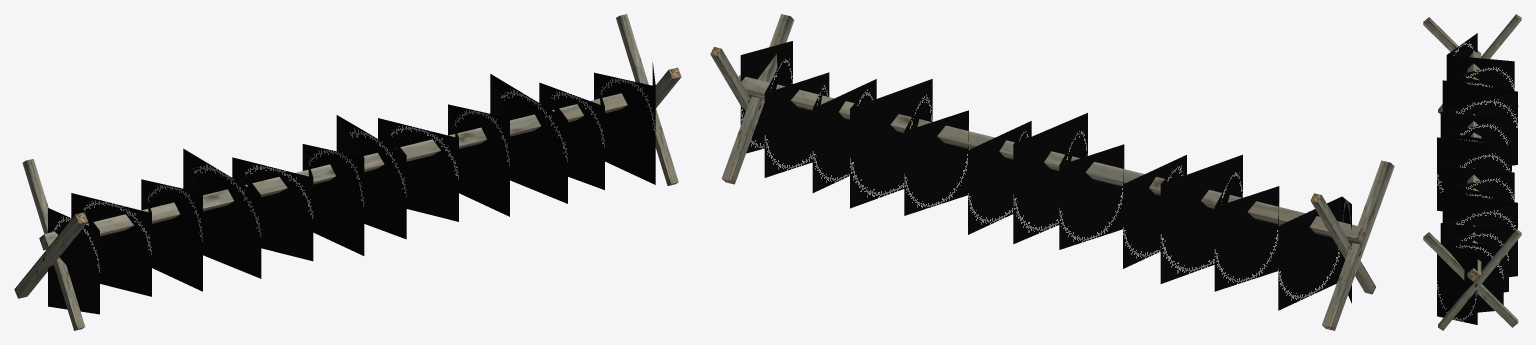
File: Checkpoint_Barrier8M.glb
3 renders of one model, left to right at view 1: azimuth 30°, elevation 25°; view 2: azimuth 150°, elevation 25°; view 3: azimuth 270°, elevation 25°, orthographic. The views are drawn at different scales.
Visible parts, largest first — view 1: CHECKPOINT_BARRIER8M; view 2: CHECKPOINT_BARRIER8M; view 3: CHECKPOINT_BARRIER8M.
Part boxes in pixels (box(x1,y1,x2,y2)): CHECKPOINT_BARRIER8M: box(14, 14, 681, 330); CHECKPOINT_BARRIER8M: box(710, 14, 1394, 330); CHECKPOINT_BARRIER8M: box(1423, 14, 1521, 330).
Bounding box in the file's own units: 8 × 1.67 × 1.49.
Materials: 2 (2 with a texture image).
